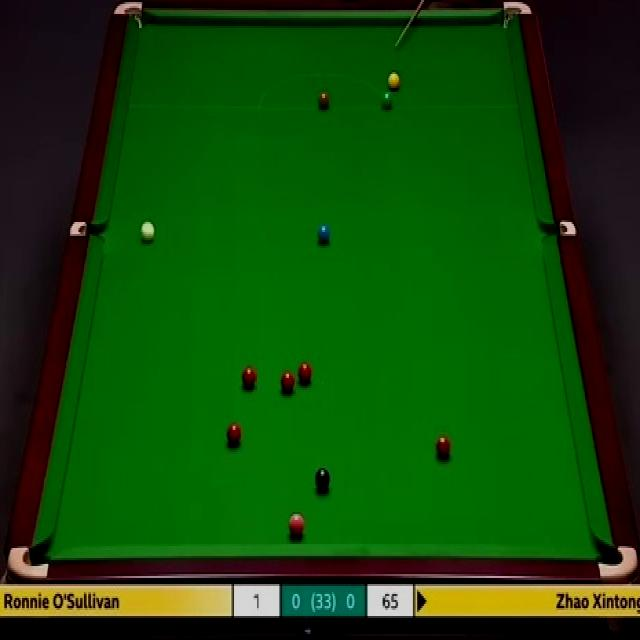pocket: (597, 543, 640, 582), (8, 543, 48, 582), (500, 0, 532, 32), (112, 2, 145, 29), (540, 218, 577, 237), (70, 222, 104, 238)
